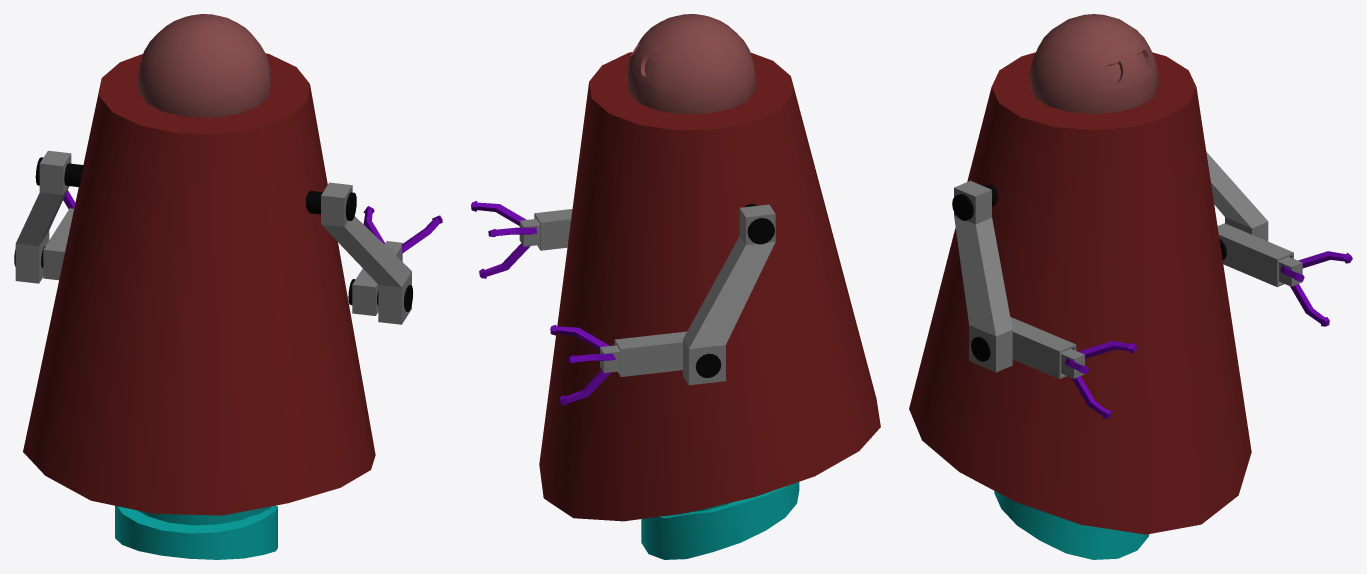
Rendered from Task Chip Enemy.fbx.
The picture shows the model from 3 angles, left to right: view 1: azimuth 30°, elevation 25°; view 2: azimuth 150°, elevation 25°; view 3: azimuth 270°, elevation 25°; orthographic projection. The views are drawn at different scales.
Parts seen in each view (by area): view 1: TaskChip_MDL_002:Body, TaskChip_MDL_002:Head, TaskChip_MDL_002:PlayerChar_MDL_001:pCylinder5, TaskChip_MDL_002:Forearm, TaskChip_MDL_002:PlayerChar_MDL_001:Forearm, TaskChip_MDL_002:Hand, TaskChip_MDL_002:PlayerChar_MDL_001:Hand, TaskChip_MDL_002:PlayerChar_MDL_001:pCylinder4, TaskChip_MDL_002:Arm_Right; view 2: TaskChip_MDL_002:Body, TaskChip_MDL_002:Head, TaskChip_MDL_002:PlayerChar_MDL_001:Forearm, TaskChip_MDL_002:PlayerChar_MDL_001:pCylinder5, TaskChip_MDL_002:PlayerChar_MDL_001:Hand, TaskChip_MDL_002:Hand, TaskChip_MDL_002:Arm_Left, TaskChip_MDL_002:PlayerChar_MDL_001:pCube6, TaskChip_MDL_002:pCube5, TaskChip_MDL_002:PlayerChar_MDL_001:pCube5, TaskChip_MDL_002:pCube7; view 3: TaskChip_MDL_002:Body, TaskChip_MDL_002:Head, TaskChip_MDL_002:Forearm, TaskChip_MDL_002:PlayerChar_MDL_001:pCylinder5, TaskChip_MDL_002:PlayerChar_MDL_001:Hand, TaskChip_MDL_002:Hand, TaskChip_MDL_002:PlayerChar_MDL_001:Forearm, TaskChip_MDL_002:Arm_Right.
Part boxes in pixels (x1,y1,x2,y2): TaskChip_MDL_002:Body: (23,53,375,515); TaskChip_MDL_002:Head: (137,14,271,117); TaskChip_MDL_002:PlayerChar_MDL_001:pCylinder5: (115,505,277,559); TaskChip_MDL_002:Forearm: (321,182,411,324); TaskChip_MDL_002:PlayerChar_MDL_001:Forearm: (15,150,71,283); TaskChip_MDL_002:Hand: (352,241,402,315); TaskChip_MDL_002:PlayerChar_MDL_001:Hand: (43,208,73,280); TaskChip_MDL_002:PlayerChar_MDL_001:pCylinder4: (138,506,270,525); TaskChip_MDL_002:Arm_Right: (305,191,356,220); TaskChip_MDL_002:Body: (539,52,880,521); TaskChip_MDL_002:Head: (626,14,756,114); TaskChip_MDL_002:PlayerChar_MDL_001:Forearm: (683,204,775,385); TaskChip_MDL_002:PlayerChar_MDL_001:pCylinder5: (641,482,799,559); TaskChip_MDL_002:PlayerChar_MDL_001:Hand: (600,331,686,376); TaskChip_MDL_002:Hand: (519,209,572,250); TaskChip_MDL_002:Arm_Left: (745,204,774,244); TaskChip_MDL_002:PlayerChar_MDL_001:pCube6: (550,324,609,350); TaskChip_MDL_002:pCube5: (479,243,530,278); TaskChip_MDL_002:PlayerChar_MDL_001:pCube5: (559,370,610,405); TaskChip_MDL_002:pCube7: (471,201,526,225); TaskChip_MDL_002:Body: (909,52,1251,534); TaskChip_MDL_002:Head: (1029,14,1158,113); TaskChip_MDL_002:Forearm: (954,180,1012,372); TaskChip_MDL_002:PlayerChar_MDL_001:pCylinder5: (994,491,1149,559); TaskChip_MDL_002:PlayerChar_MDL_001:Hand: (1217,223,1302,287); TaskChip_MDL_002:Hand: (1010,317,1084,379); TaskChip_MDL_002:PlayerChar_MDL_001:Forearm: (1206,152,1268,241); TaskChip_MDL_002:Arm_Right: (952,184,997,220).
Bounding box in the file's own units: 127 × 164 × 127.
